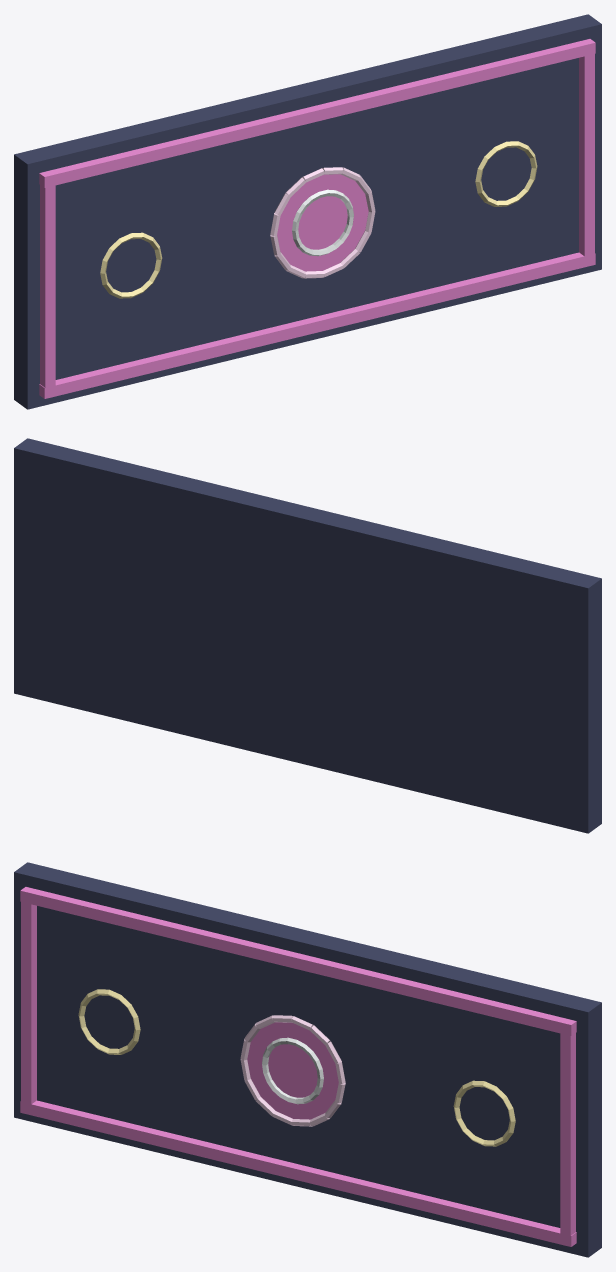
The model's file is letrero_rosa.glb.
3 renders of one model, top to bottom at view 1: azimuth 30°, elevation 25°; view 2: azimuth 150°, elevation 25°; view 3: azimuth 330°, elevation 25°, orthographic.
Visible parts, largest first — view 1: letrero_rosa; view 2: letrero_rosa; view 3: letrero_rosa.
Part boxes in pixels (x1,y1,x2,y2): letrero_rosa: (14,14,601,409); letrero_rosa: (14,438,601,833); letrero_rosa: (14,862,601,1257).
Bounding box in the file's own units: 4.9 × 2 × 0.3458.
